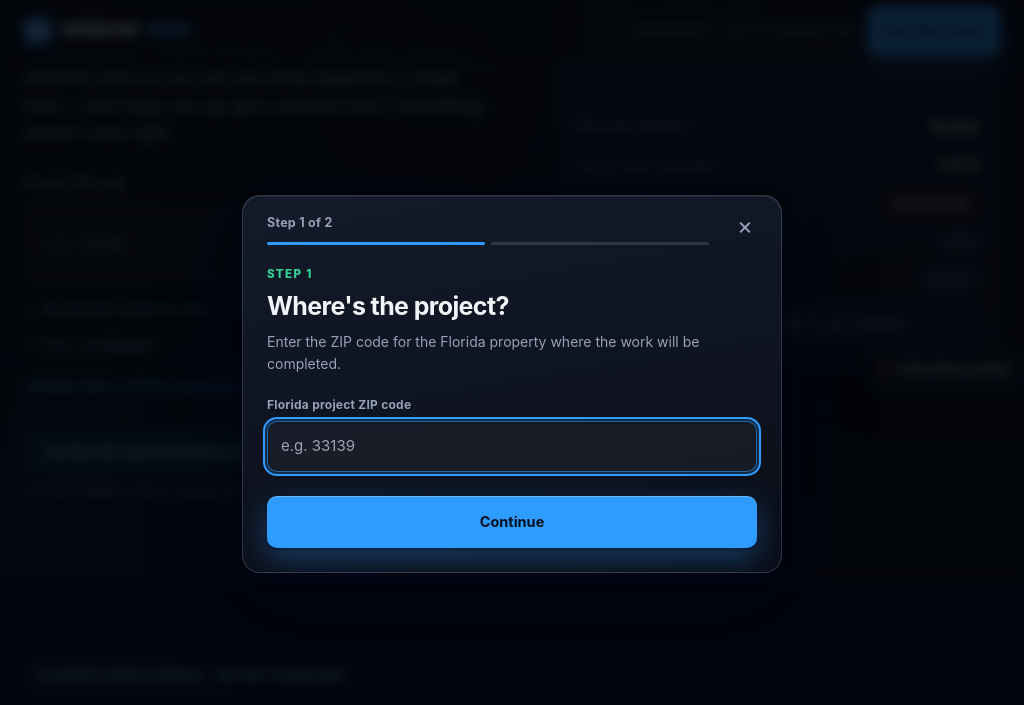
Test: CampaignNQ3 NoQuoteLanding › deduplicates rapid written-estimate activations until the intake closes
Earlier steps of the test are not shown.
(page scrolled)
Expected: the number of dialogs is 1, [242, 195, 782, 573]
Press Escape
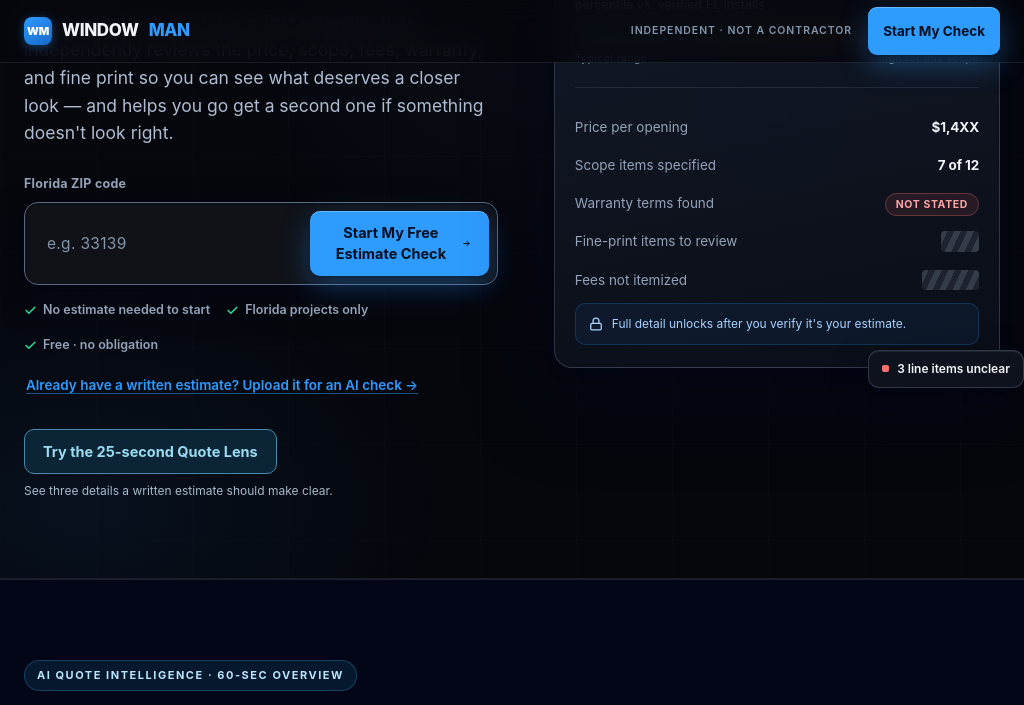
Result: the dialog is gone
Click the button with test id "nq3-escape-hatch".
click(222, 385)  # box [24, 361, 420, 409]
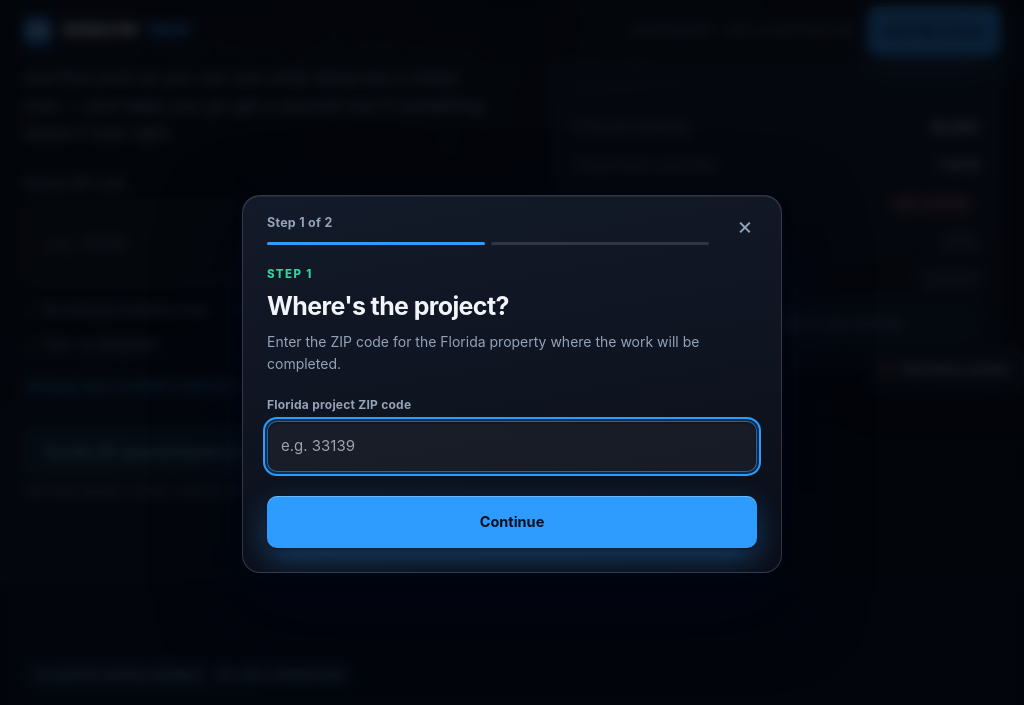
Result: the number of dialogs is 1 at [242, 195, 782, 573]
